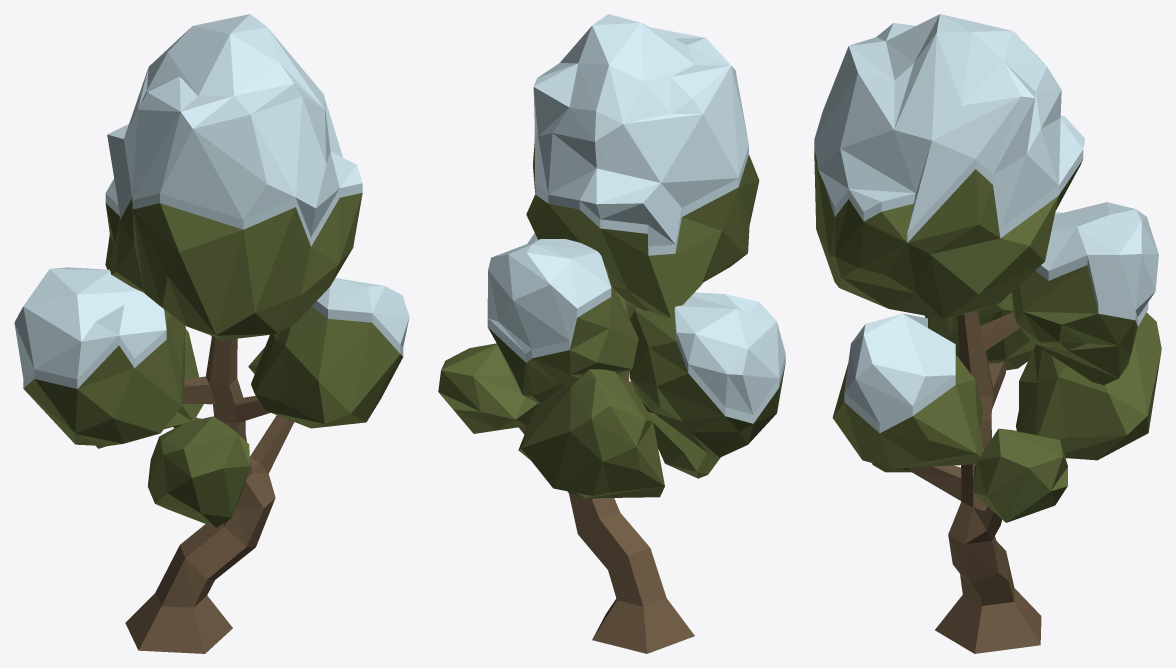
File: SM_Env_Tree_Twisted_02_Snow.glb
3 renders of one model, left to right at view 1: azimuth 30°, elevation 25°; view 2: azimuth 150°, elevation 25°; view 3: azimuth 270°, elevation 25°, orthographic. The views are drawn at different scales.
Parts seen in each view (by area): view 1: SM_Env_Tree_Twisted_02_Snow; view 2: SM_Env_Tree_Twisted_02_Snow; view 3: SM_Env_Tree_Twisted_02_Snow.
Boxes of the visible parts, x1=… form: SM_Env_Tree_Twisted_02_Snow: x1=14, y1=14, x2=409, y2=653; SM_Env_Tree_Twisted_02_Snow: x1=438, y1=14, x2=785, y2=653; SM_Env_Tree_Twisted_02_Snow: x1=814, y1=14, x2=1161, y2=653.
Bounding box in the file's own units: 3.47 × 6.11 × 3.05.
1 material, 1 textured.
